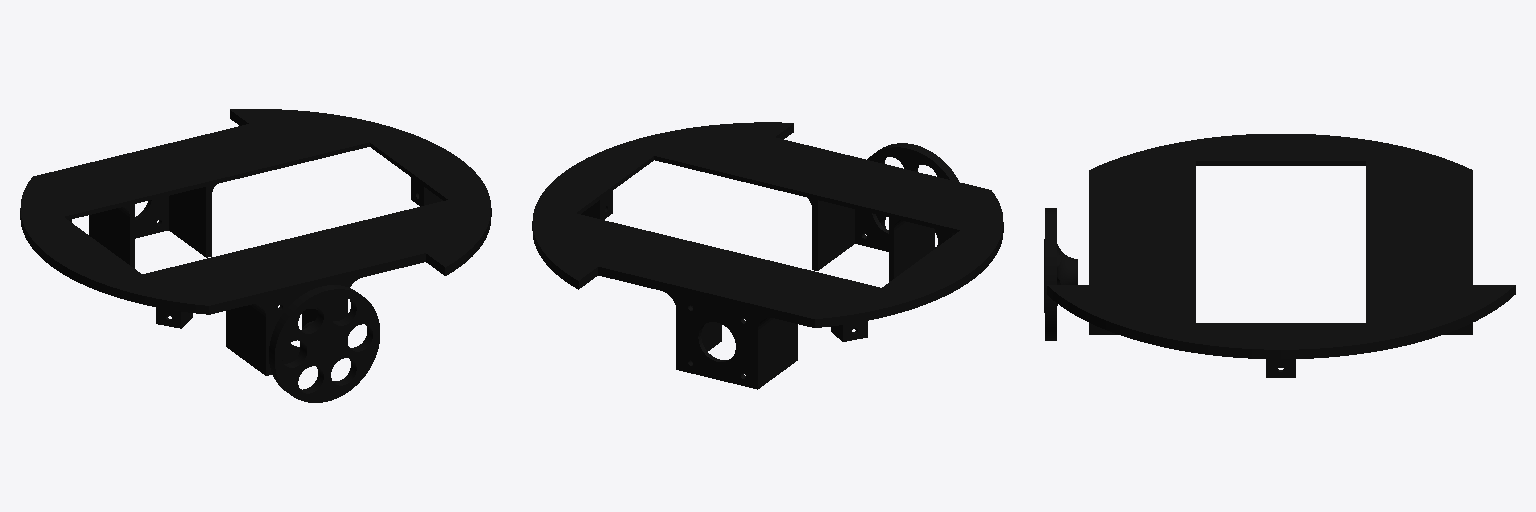
URDF robot description (sophus):
<?xml version="1.0"?>
<robot name="sophus">
    <link name="base_link">
        <visual>
            <geometry>
                <mesh filename="package://my_robot_description/meshes/base_plate_v1.stl" scale="0.001 0.001 0.001"/>
            </geometry>
            <origin xyz="0 0 0.057" rpy="3.142 0 1.5708"/>
            <material name="black"><color rgba="0.1 0.1 0.1 1"/></material>
        </visual>
        <collision>
            <origin xyz="0 0 0.057" rpy="3.142 0 1.5708"/>
            <geometry>
                <mesh filename="package://my_robot_description/meshes/base_plate_v1.stl" scale="0.001 0.001 0.001"/>
            </geometry>
        </collision>
        <inertial>
            <mass value="0.15"/>
            <inertia ixx="0.0001" ixy="0" ixz="0" iyy="0.0001" iyz="0" izz="0.0001"/>
        </inertial>
    </link>

    <link name="stepper_motor">
        <visual>
            <geometry>
                <mesh filename="package://my_robot_description/meshes/nema17_17HS4401_b.stl" scale="0.9 0.9 0.9"/>
            </geometry>
            <origin xyz="0 0 0" rpy="0 0 0"/>
            <material name="grey"><color rgba="0.4 0.4 0.4 1"/></material>
        </visual>
        <collision>
            <geometry>
                <mesh filename="package://my_robot_description/meshes/nema17_17HS4401_b.stl" scale="0.9 0.9 0.9"/>
            </geometry>
        </collision>
        <inertial>
            <mass value="0.15"/>
            <inertia ixx="0.0001" ixy="0" ixz="0" iyy="0.0001" iyz="0" izz="0.0001"/>
        </inertial>
    </link>

    <link name="wheel">
        <visual>
            <geometry>
                <mesh filename="package://my_robot_description/meshes/wheel_v1.stl" scale="0.001 0.001 0.001"/>
            </geometry>
            <origin xyz="0 0 0" rpy="0 0 0"/>
            <material name="black"><color rgba="0.1 0.1 0.1 1"/></material>
        </visual>
        <collision>
            <geometry>
                <mesh filename="package://my_robot_description/meshes/wheel_v1.stl" scale="0.001 0.001 0.001"/>
            </geometry>
        </collision>
        <inertial>
            <mass value="0.1"/>
            <inertia ixx="0.0001" ixy="0" ixz="0" iyy="0.0001" iyz="0" izz="0.0001"/>
        </inertial>
    </link>

    <joint name="motor_joint_right" type="fixed">
        <parent link="base_link"/>
        <child link="stepper_motor"/>
        <origin xyz="-0.022 -0.085 0.0295" rpy="1.57 0 0"/>
        <axis xyz="0 0 0"/>
    </joint>

    <joint name="wheel_joint_right" type="continuous">
        <parent link="stepper_motor"/>
        <child link="wheel"/>
        <origin xyz="0 0 0.026" rpy="0 -3.14 0"/>
        <axis xyz="0 0 1"/>
    </joint>

</robot>

--- Render facts (derived) ---
Views: 3 orthographic renders of the robot side by side, from view 1: azimuth 30°, elevation 25°; view 2: azimuth 150°, elevation 25°; view 3: azimuth 270°, elevation 25°.
Model sophus with 3 links and 2 joints (1 continuous, 1 fixed), rooted at base_link, posed every joint at zero.
Visible links, largest first — view 1: base_link, wheel; view 2: base_link, wheel; view 3: base_link, wheel.
Boxes of the visible links, x1,y1,x2,y2 form: base_link: [20, 109, 491, 375]; wheel: [269, 285, 379, 402]; base_link: [532, 122, 1003, 389]; wheel: [867, 143, 958, 248]; base_link: [1047, 134, 1515, 377]; wheel: [1044, 208, 1077, 340].
Size in the robot's own frame: 0.24 by 0.2211 by 0.0624 metres.
2 mesh visuals loaded from 3 distinct referenced files (2 binary STL); not drawn: 1 (reference not matched to a file when rendering).
